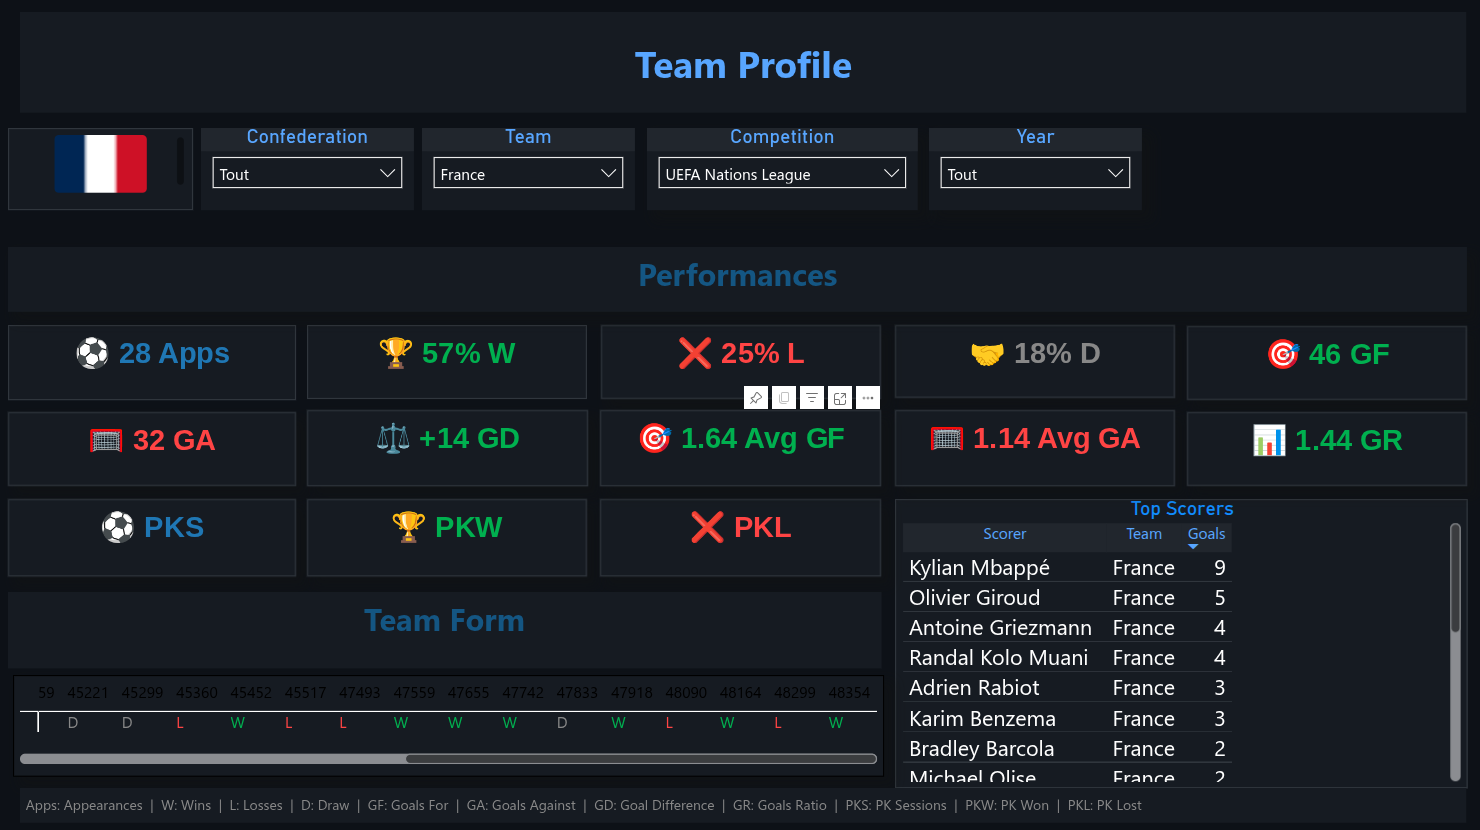

Layout of this report page (visuals, bound fields, positions):
{"tool":"powerbi","page":{"name":"Team Profile","canvas":[1280,720],"ordinal":0},"visuals":[{"type":"slicer","title":"Team","fields":{"Values":["dim_country.canonical_name"]},"box":[365,112.2,184,70.8],"z":0},{"type":"tableEx","title":"Top Scorers","fields":{"Values":["dim_scorer.scorer","dim_country.canonical_name","dim_country.Team Goals"]},"box":[773.3,432.9,494.9,249.9],"z":1000},{"type":"htmlContent443BE3AD55E043BF878BED274D3A6855","fields":{"content":["dim_country.Draw% Label"]},"box":[773.3,282.4,242,63],"z":2000},{"type":"htmlContent443BE3AD55E043BF878BED274D3A6855","fields":{"content":["dim_country.Win% Label"]},"box":[265.5,282.3,241.8,64.1],"z":3000},{"type":"htmlContent443BE3AD55E043BF878BED274D3A6855","fields":{"content":["dim_country.Loss% Label"]},"box":[519.1,282.3,241.8,64.1],"z":4000},{"type":"htmlContent443BE3AD55E043BF878BED274D3A6855","fields":{"content":["dim_country.Matches Played Label"]},"box":[6.9,282.3,248.7,65.1],"z":5000},{"type":"htmlContent443BE3AD55E043BF878BED274D3A6855","fields":{"content":["dim_country.Goals Scored Label"]},"box":[1026.2,283.4,242,64],"z":6000},{"type":"htmlContent443BE3AD55E043BF878BED274D3A6855","fields":{"content":["dim_country.Goals Conceded Label"]},"box":[6.9,358.1,248.9,64],"z":7000},{"type":"htmlContent443BE3AD55E043BF878BED274D3A6855","fields":{"content":["dim_country.Goal Difference Label"]},"box":[265.6,356.2,243,65.9],"z":8000},{"type":"htmlContent443BE3AD55E043BF878BED274D3A6855","fields":{"content":["dim_country.Flag HTML"]},"box":[6.9,112.2,160.4,70.8],"z":9000},{"type":"textbox","box":[17.7,11.8,1250.5,86.6],"z":10000},{"type":"htmlContent443BE3AD55E043BF878BED274D3A6855","fields":{"content":["dim_country.PK Sessions Label"]},"box":[6.9,432.9,248.9,66.9],"z":11000},{"type":"textbox","box":[6.9,215.1,1261.2,56.3],"z":12000},{"type":"htmlContent443BE3AD55E043BF878BED274D3A6855","fields":{"content":["dim_country.PK Win Rate Label"]},"box":[265.6,432.9,242,66.9],"z":13000},{"type":"htmlContent443BE3AD55E043BF878BED274D3A6855","fields":{"content":["dim_country.PK Loss Rate Label"]},"box":[518.5,432.9,243,66.9],"z":14000},{"type":"htmlContent443BE3AD55E043BF878BED274D3A6855","fields":{"content":["dim_country.Avg Goals Conceded Label"]},"box":[773.3,356.2,242,65.9],"z":15000},{"type":"htmlContent443BE3AD55E043BF878BED274D3A6855","fields":{"content":["dim_country.Avg Goals Scored Label"]},"box":[518.5,356.2,243,65.9],"z":16000},{"type":"htmlContent443BE3AD55E043BF878BED274D3A6855","fields":{"content":["dim_country.Goals Ratio Label"]},"box":[1026.2,358.1,242,64],"z":17000},{"type":"pivotTable","title":"Team Form","fields":{"Columns":["dim_match_country.match_id","dim_date.date_key"],"Values":["dim_country.Team Form"]},"box":[10.8,595.2,753.6,87.6],"z":18000},{"type":"textbox","box":[6.9,513.6,754.6,65.9],"z":19000},{"type":"slicer","title":"Competition","fields":{"Values":["dim_tournament.tournament"]},"box":[558.8,112.2,234.2,70.8],"z":20000},{"type":"slicer","title":"Year","fields":{"Values":["dim_date.decade Hiérarchie.decade","dim_date.decade Hiérarchie.year"]},"box":[802.8,112.2,184,70.8],"z":21000},{"type":"slicer","title":"Confederation","fields":{"Values":["dim_country.confederation"]},"box":[174.1,112.2,184,70.8],"z":22000},{"type":"textbox","box":[17.7,682.8,1250.5,30.5],"z":23000}]}

Visuals, with their boxes in screenshot pixels (x1, y1, x2, y2), scaled from the page's 1280x720 canvas onto the 1480x830 screenshot:
"Team" slicer: (left=422, top=129, right=635, bottom=211)
"Top Scorers" tableEx: (left=894, top=499, right=1466, bottom=787)
htmlContent443BE3AD55E043BF878BED274D3A6855 - dim_country.Draw% Label: (left=894, top=326, right=1174, bottom=398)
htmlContent443BE3AD55E043BF878BED274D3A6855 - dim_country.Win% Label: (left=307, top=325, right=587, bottom=399)
htmlContent443BE3AD55E043BF878BED274D3A6855 - dim_country.Loss% Label: (left=600, top=325, right=880, bottom=399)
htmlContent443BE3AD55E043BF878BED274D3A6855 - dim_country.Matches Played Label: (left=8, top=325, right=296, bottom=400)
htmlContent443BE3AD55E043BF878BED274D3A6855 - dim_country.Goals Scored Label: (left=1187, top=327, right=1466, bottom=400)
htmlContent443BE3AD55E043BF878BED274D3A6855 - dim_country.Goals Conceded Label: (left=8, top=413, right=296, bottom=487)
htmlContent443BE3AD55E043BF878BED274D3A6855 - dim_country.Goal Difference Label: (left=307, top=411, right=588, bottom=487)
htmlContent443BE3AD55E043BF878BED274D3A6855 - dim_country.Flag HTML: (left=8, top=129, right=193, bottom=211)
textbox: (left=20, top=14, right=1466, bottom=113)
htmlContent443BE3AD55E043BF878BED274D3A6855 - dim_country.PK Sessions Label: (left=8, top=499, right=296, bottom=576)
textbox: (left=8, top=248, right=1466, bottom=313)
htmlContent443BE3AD55E043BF878BED274D3A6855 - dim_country.PK Win Rate Label: (left=307, top=499, right=587, bottom=576)
htmlContent443BE3AD55E043BF878BED274D3A6855 - dim_country.PK Loss Rate Label: (left=600, top=499, right=880, bottom=576)
htmlContent443BE3AD55E043BF878BED274D3A6855 - dim_country.Avg Goals Conceded Label: (left=894, top=411, right=1174, bottom=487)
htmlContent443BE3AD55E043BF878BED274D3A6855 - dim_country.Avg Goals Scored Label: (left=600, top=411, right=880, bottom=487)
htmlContent443BE3AD55E043BF878BED274D3A6855 - dim_country.Goals Ratio Label: (left=1187, top=413, right=1466, bottom=487)
"Team Form" pivotTable: (left=12, top=686, right=884, bottom=787)
textbox: (left=8, top=592, right=880, bottom=668)
"Competition" slicer: (left=646, top=129, right=917, bottom=211)
"Year" slicer: (left=928, top=129, right=1141, bottom=211)
"Confederation" slicer: (left=201, top=129, right=414, bottom=211)
textbox: (left=20, top=787, right=1466, bottom=822)
